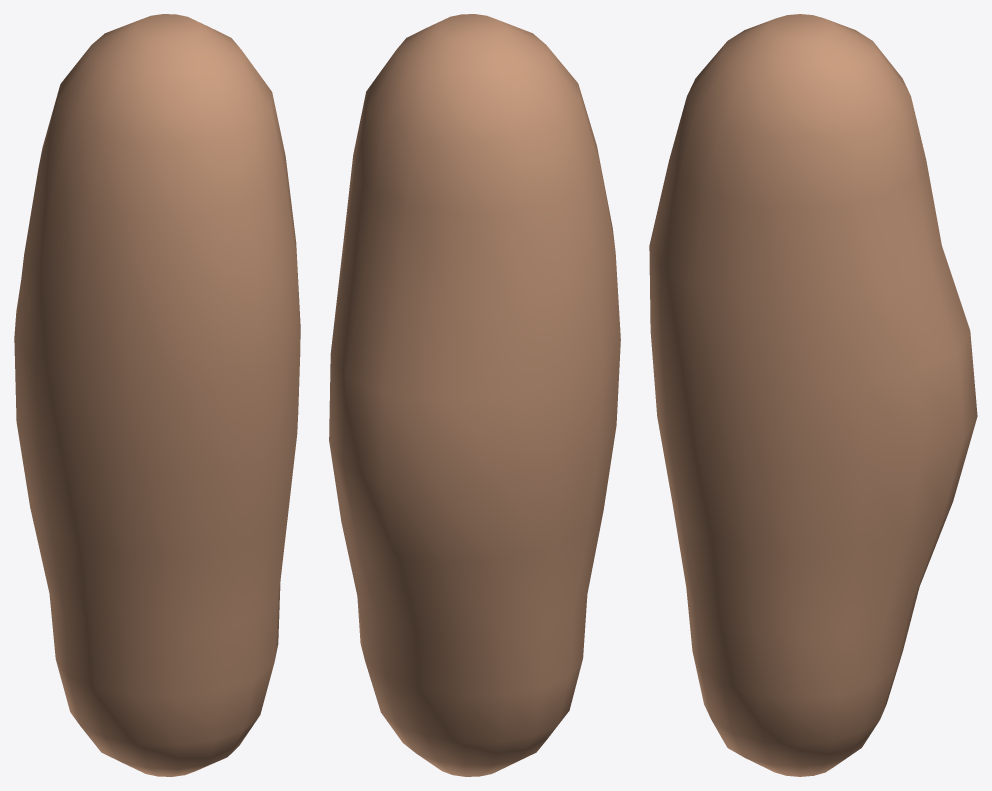
Rendered from upper_arm_l.glb.
The picture shows the model from 3 angles, left to right: view 1: azimuth 30°, elevation 25°; view 2: azimuth 150°, elevation 25°; view 3: azimuth 270°, elevation 25°; orthographic projection.
Visible parts, largest first — view 1: OUT; view 2: OUT; view 3: OUT.
Part boxes in pixels (box(x1,y1,x2,y2)): OUT: box(14, 14, 300, 776); OUT: box(329, 14, 620, 776); OUT: box(649, 14, 977, 776).
Bounding box in the file's own units: 0.1202 × 0.344 × 0.1394.
